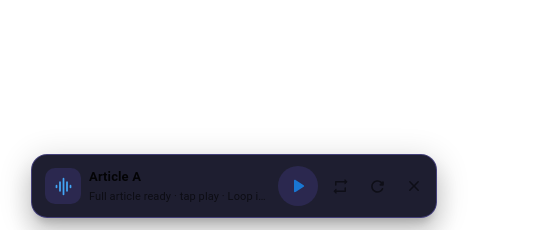
Scenario: ArticleTtsMiniPlayer › plays only after the user clicks and immediately stops when updating
The width and height of the screenshot is (538, 230).
Click the button named "Set loop or stop time".
click(340, 186)  # box [326,172,355,200]
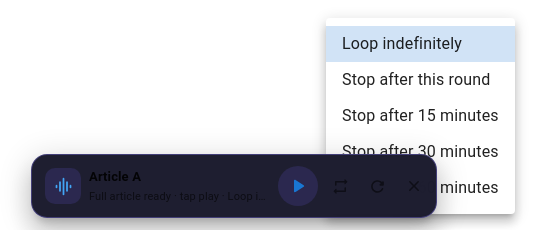
Click the menu item "Stop after this round".
click(416, 80)  # box [342,70,490,89]
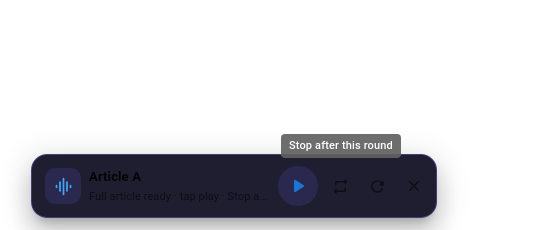
Click the button named "Play full-article audio".
click(298, 186)  # box [278,166,318,206]
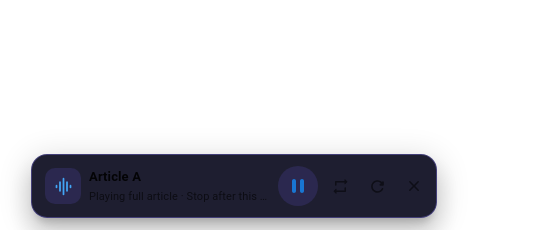
Check: the button named "Pause full-article audio" is shown, box [278,166,318,206]
Click the button named "Update full-article audio".
click(378, 186)  # box [363,172,392,200]
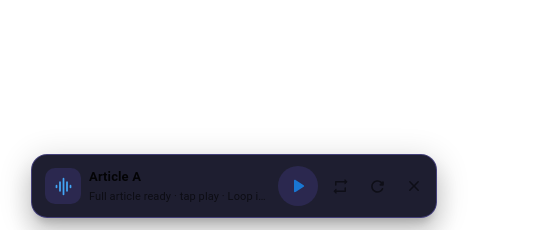
Check: the button named "Play full-article audio" is shown, box [278,166,318,206]
